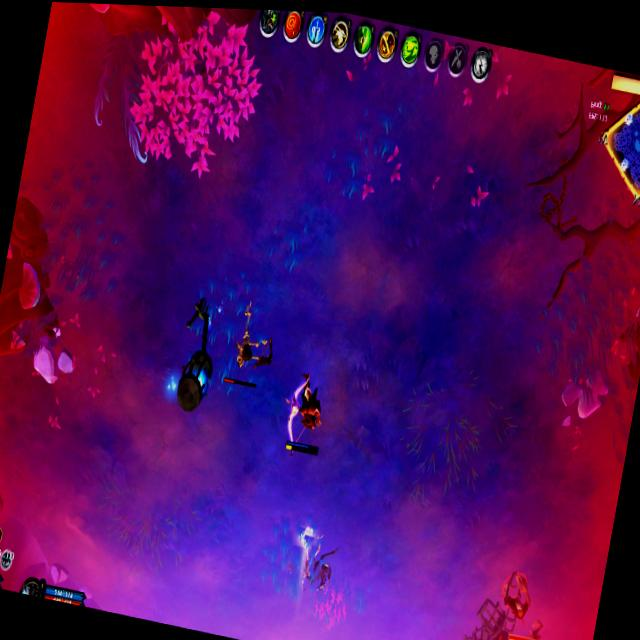10: (162, 286, 230, 422)
ore: (217, 300, 281, 399), (489, 563, 555, 640), (508, 614, 546, 640), (476, 627, 516, 640)
red: (278, 367, 336, 464)
